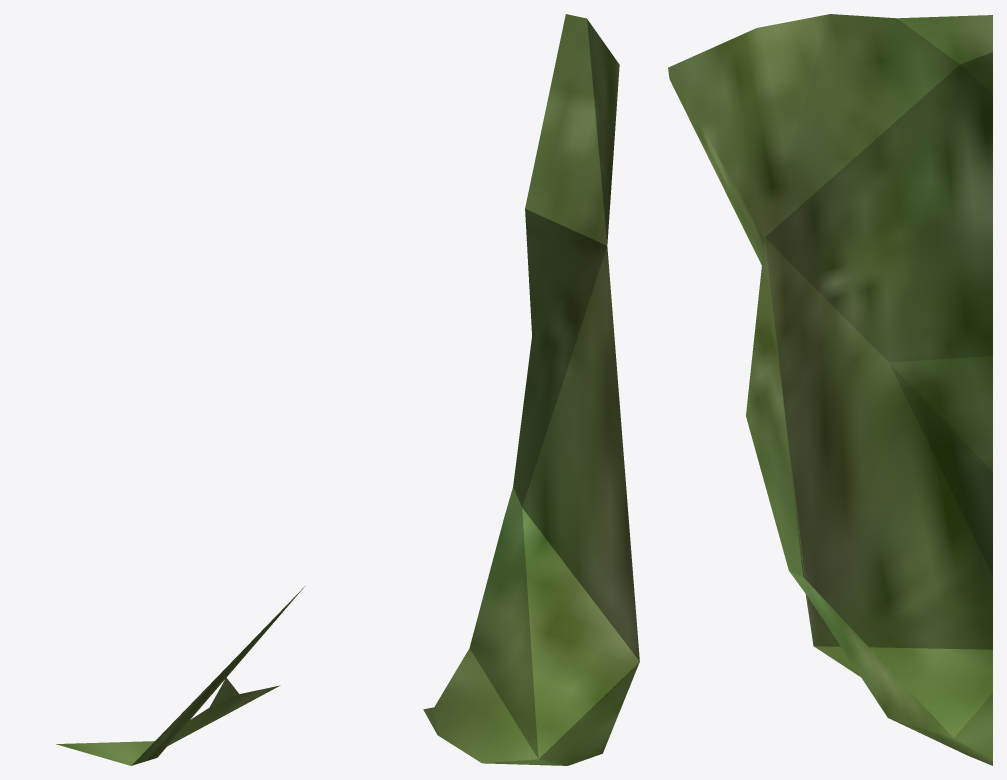
The picture shows the model from 3 angles, left to right: view 1: azimuth 30°, elevation 25°; view 2: azimuth 150°, elevation 25°; view 3: azimuth 270°, elevation 25°; orthographic projection. The views are drawn at different scales.
Bounding box in the file's own units: 1.15 × 3.85 × 1.59.
1 material, 1 textured.
